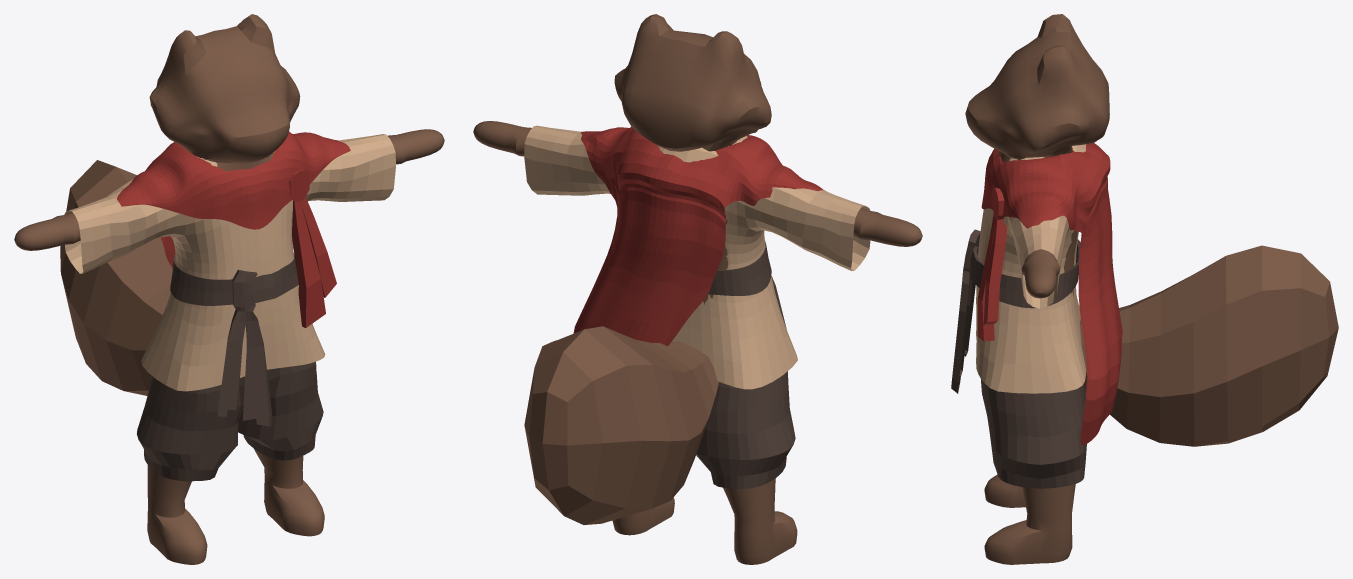
File: milo body.fbx
3 views of the same model, side by side, from view 1: azimuth 30°, elevation 25°; view 2: azimuth 150°, elevation 25°; view 3: azimuth 270°, elevation 25° (orthographic). The views are drawn at different scales.
Parts seen in each view (by area): view 1: Skin, Clothes_UpperBody, Clothes_LowerBody, TAIL, scarf.001, WaistCloth, ScarfExtension; view 2: TAIL, scarf.001, Skin, Clothes_UpperBody, Clothes_LowerBody, WaistCloth; view 3: TAIL, Skin, scarf.001, Clothes_UpperBody, Clothes_LowerBody, WaistCloth, ScarfExtension.
Boxes of the visible parts, bbox=[...] form: Skin: bbox=[14, 14, 444, 564]; Clothes_UpperBody: bbox=[64, 134, 395, 391]; Clothes_LowerBody: bbox=[137, 361, 323, 481]; TAIL: bbox=[60, 160, 172, 395]; scarf.001: bbox=[117, 131, 350, 268]; WaistCloth: bbox=[170, 253, 298, 426]; ScarfExtension: bbox=[289, 169, 336, 327]; TAIL: bbox=[524, 326, 718, 524]; scarf.001: bbox=[573, 127, 823, 346]; Skin: bbox=[473, 14, 922, 564]; Clothes_UpperBody: bbox=[524, 125, 870, 389]; Clothes_LowerBody: bbox=[696, 371, 795, 489]; WaistCloth: bbox=[708, 241, 786, 328]; TAIL: bbox=[1080, 245, 1338, 446]; Skin: bbox=[965, 14, 1109, 564]; scarf.001: bbox=[981, 143, 1122, 445]; Clothes_UpperBody: bbox=[976, 144, 1086, 393]; Clothes_LowerBody: bbox=[980, 378, 1086, 488]; WaistCloth: bbox=[951, 229, 1080, 393]; ScarfExtension: bbox=[977, 187, 1007, 341].
Bounding box in the file's own units: 90.14 × 101 × 71.16.
